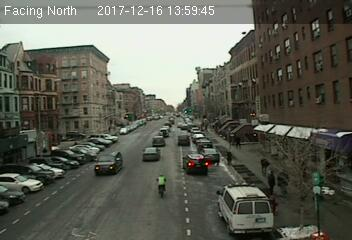bicycle: (156, 172, 168, 199)
car: (94, 151, 123, 174), (183, 154, 208, 174), (141, 147, 160, 161), (202, 148, 220, 161), (151, 135, 165, 147), (178, 134, 191, 146)
pedestrian: (267, 169, 277, 193), (259, 156, 267, 179)
police: (216, 183, 275, 236)
